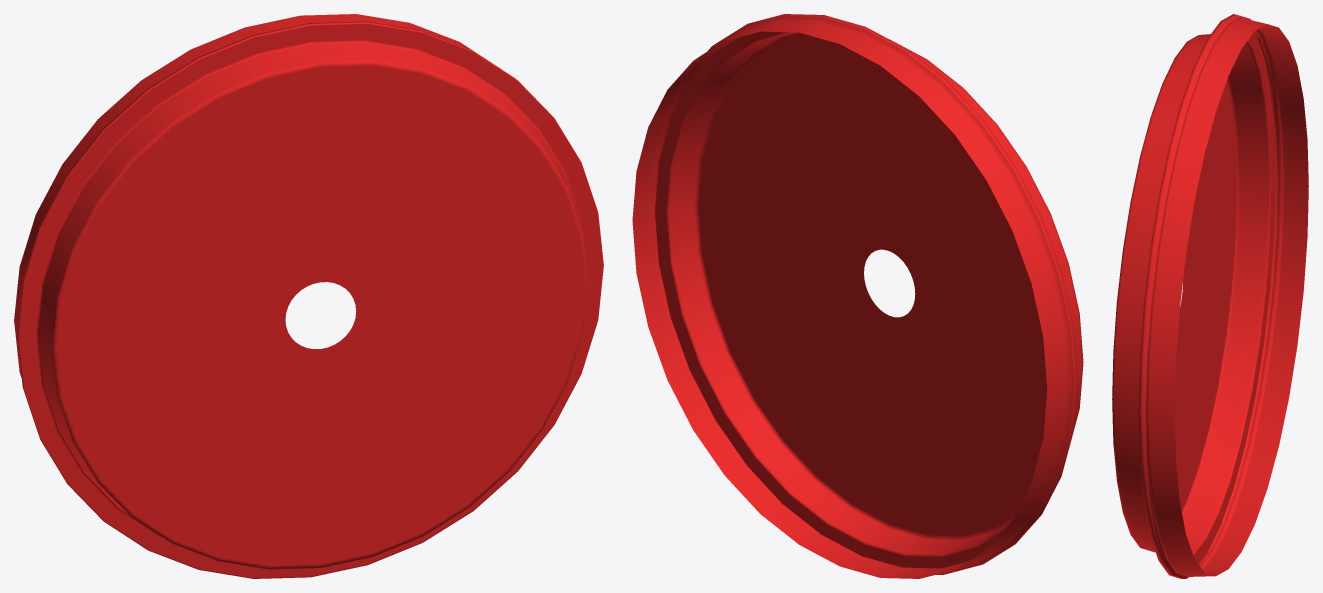
The picture shows the model from 3 angles, left to right: view 1: azimuth 30°, elevation 25°; view 2: azimuth 150°, elevation 25°; view 3: azimuth 270°, elevation 25°; orthographic projection. The views are drawn at different scales.
Size of the model in its own units: 0.7491 by 0.7687 by 0.2661.
